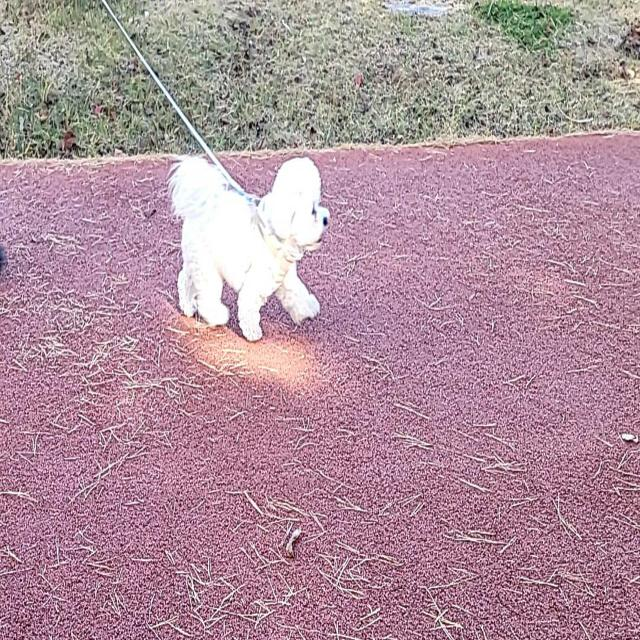Dog: (166, 150, 331, 340)
